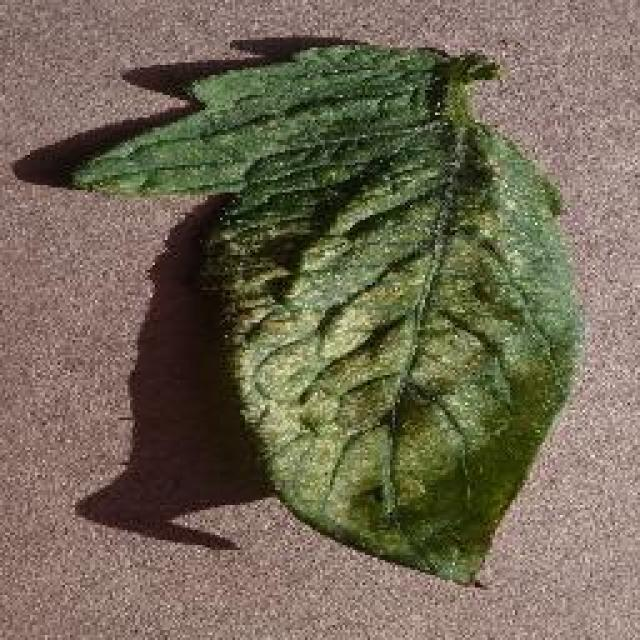Tomato___Spider_mites Two-spotted_spider_mite: (70, 42, 582, 582)
